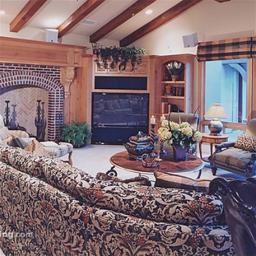Matera: (60, 118, 89, 151)
Ventana: (203, 60, 248, 124)
